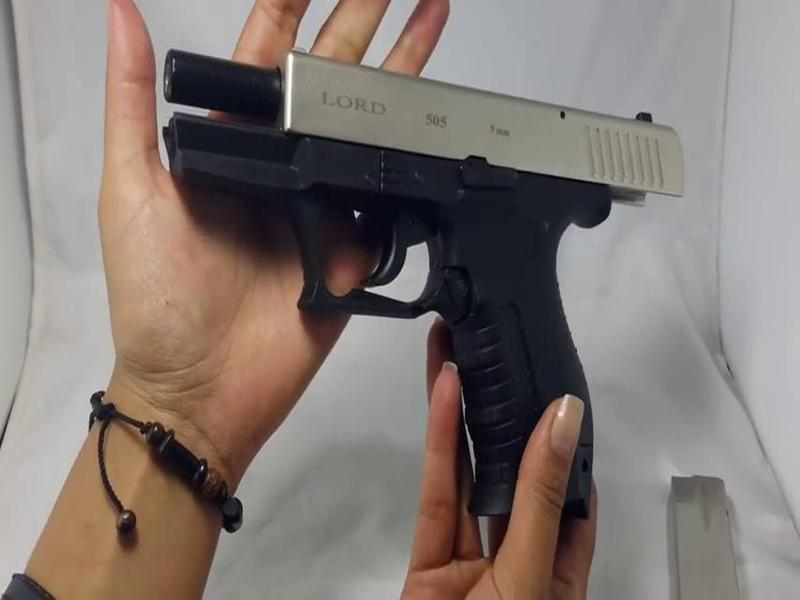Pistola: (100, 42, 700, 514)
